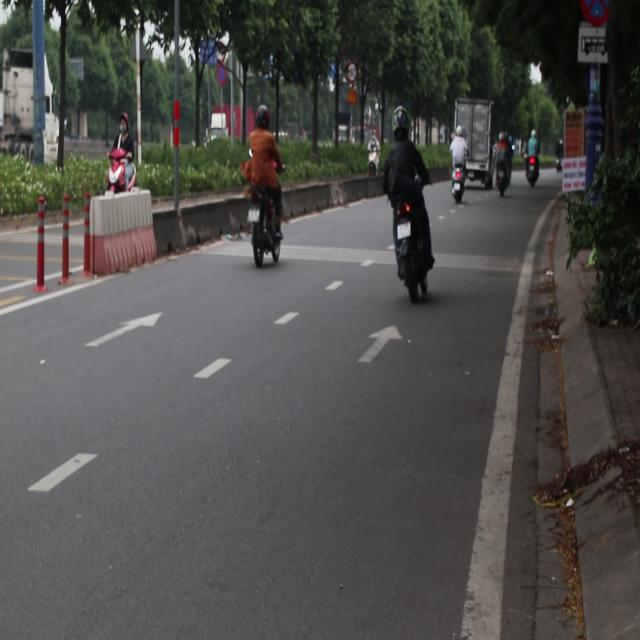motorbike: (381, 187, 447, 320), (236, 182, 297, 282), (95, 121, 141, 226), (497, 154, 514, 208), (526, 138, 542, 188), (452, 160, 468, 207), (365, 138, 379, 185)
truck: (0, 55, 65, 179), (441, 86, 500, 202), (204, 106, 260, 154)
